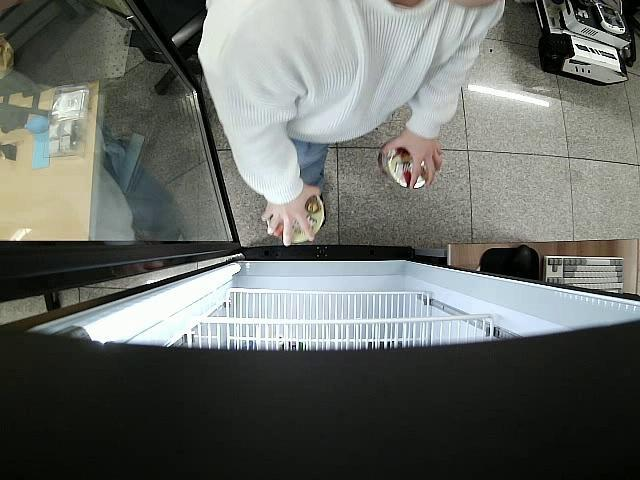03_chapagetti_L: (376, 138, 436, 190), (266, 196, 325, 244)
